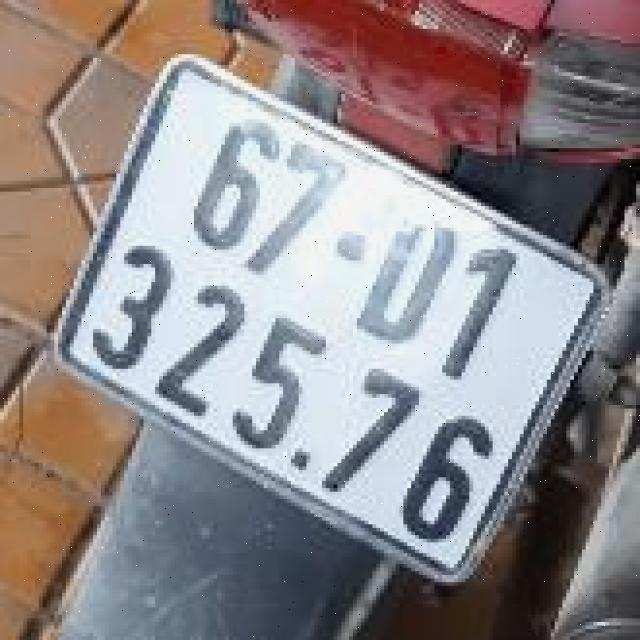1: (415, 230, 532, 401)
2: (142, 271, 274, 427)
3: (78, 230, 198, 383)
5: (200, 300, 344, 470)
6: (177, 108, 299, 264), (388, 401, 514, 551)
7: (233, 130, 363, 286), (305, 354, 435, 510)
D: (342, 192, 477, 360)
